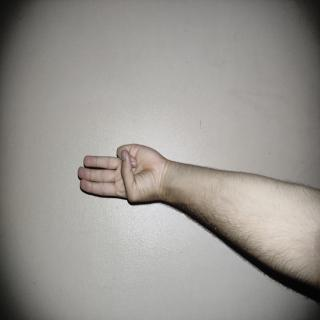THA: (77, 98, 138, 230)
